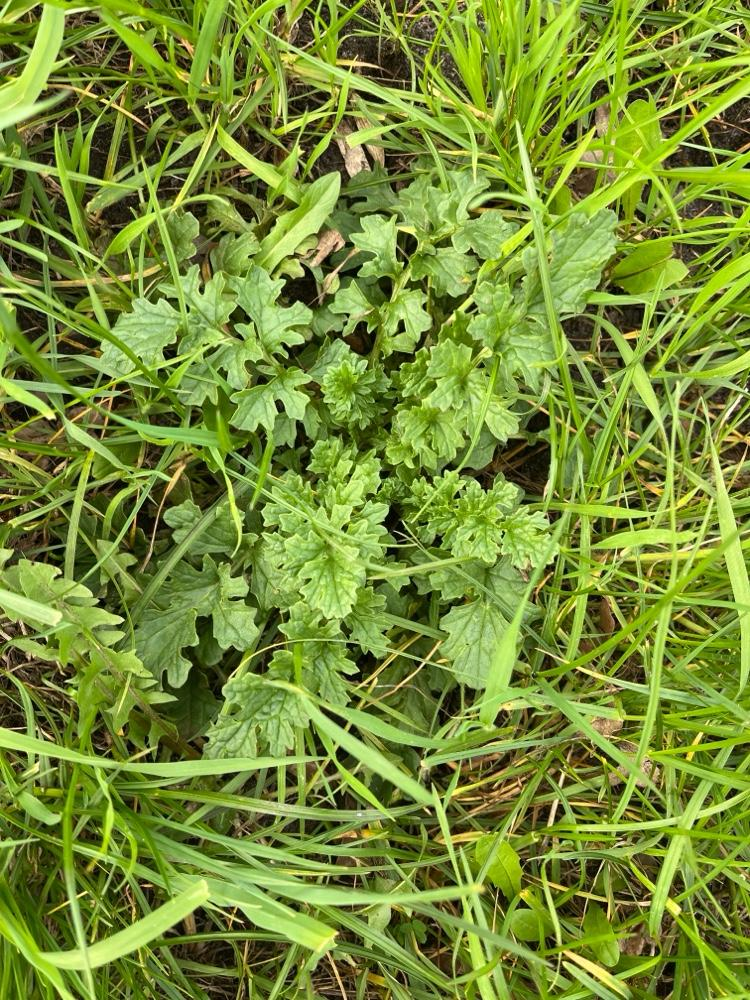Jacobaea vulgaris: (91, 154, 640, 776)
